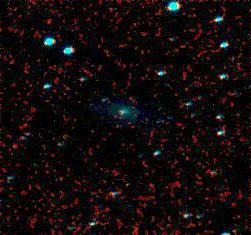star: (0, 131, 28, 161)
